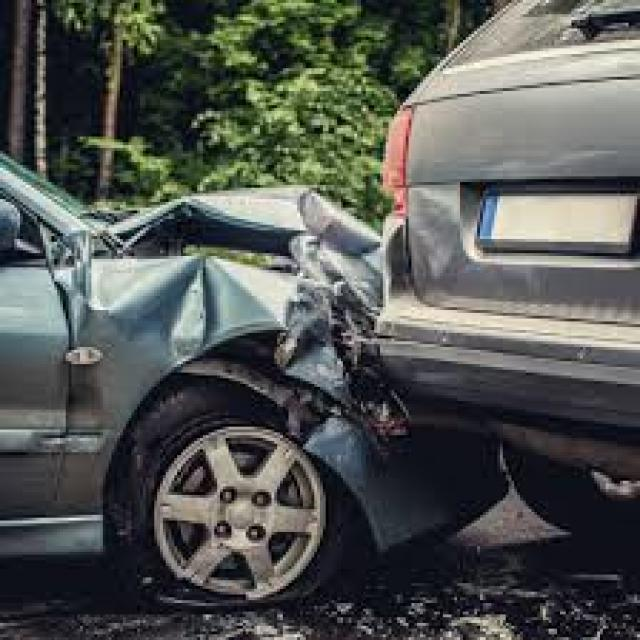severe: (85, 215, 479, 537)
